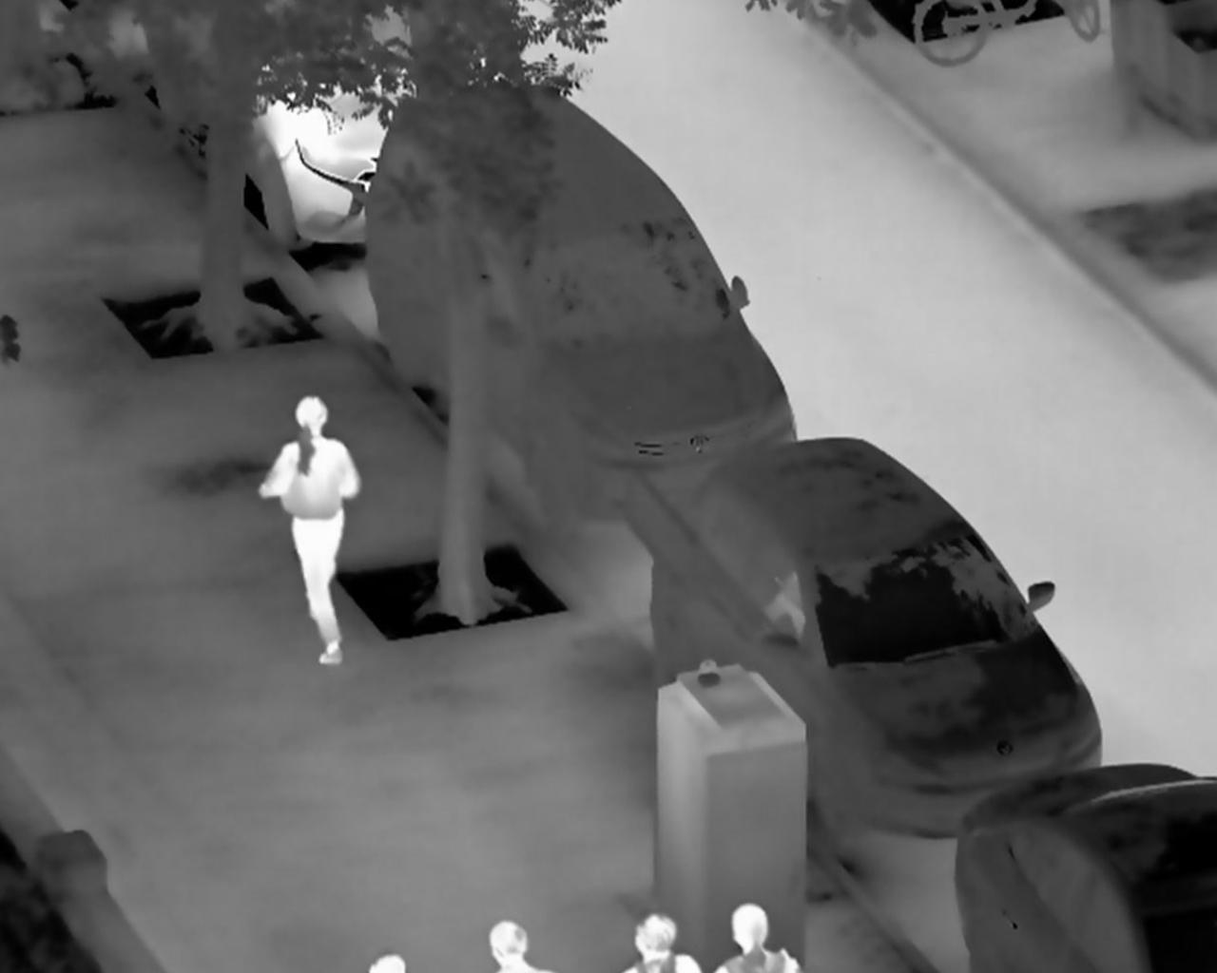person: (254, 393, 360, 670)
